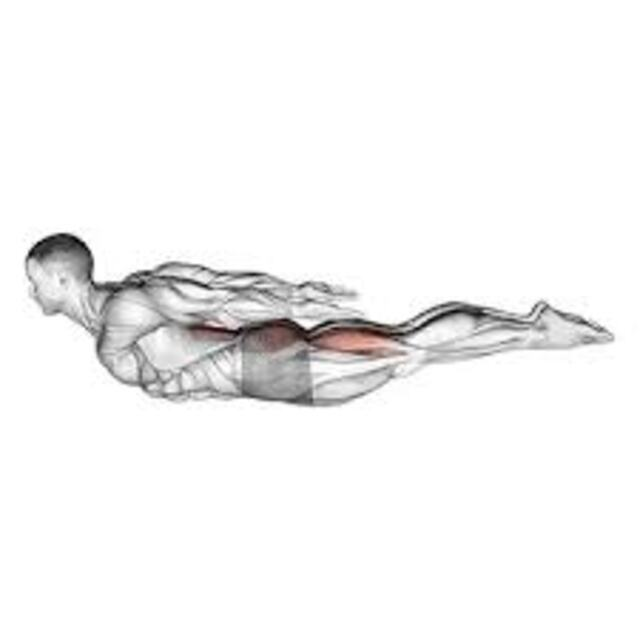Locust_Pose: (18, 228, 623, 414)
